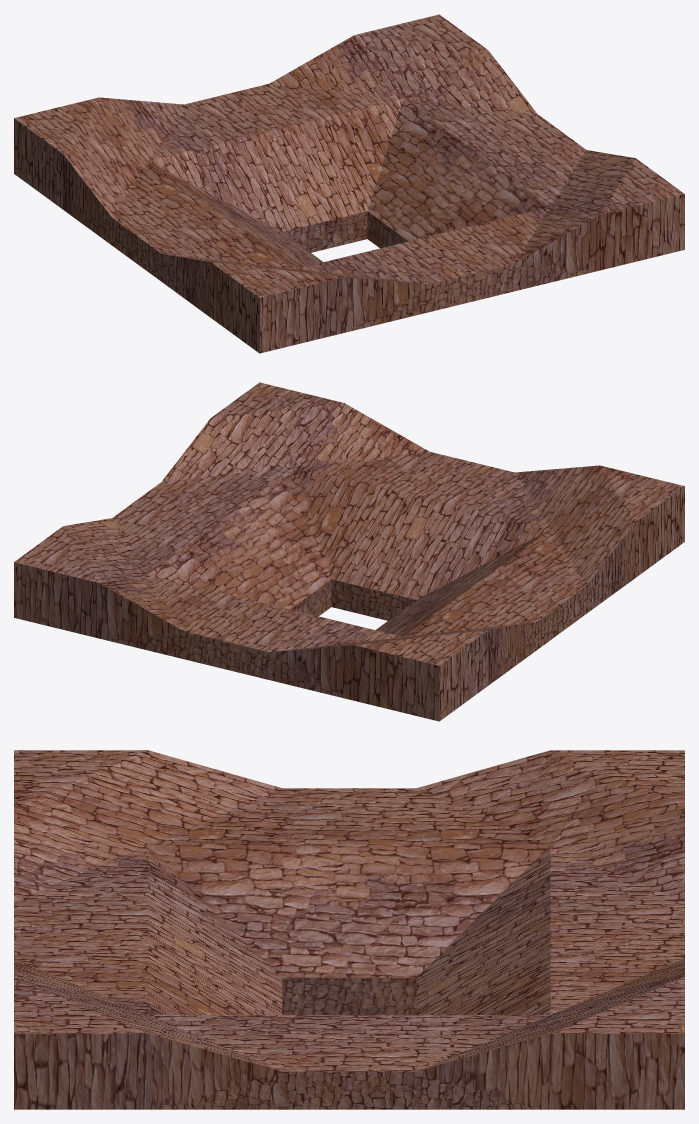
The model's file is hole.obj.
3 views of the same model, one above another, from view 1: azimuth 30°, elevation 25°; view 2: azimuth 150°, elevation 25°; view 3: azimuth 270°, elevation 25° (orthographic). The views are drawn at different scales.
Visible parts, largest first — view 1: Cube_Cube_Material_rock009r.jpg; view 2: Cube_Cube_Material_rock009r.jpg; view 3: Cube_Cube_Material_rock009r.jpg.
Boxes of the visible parts, <box> form: Cube_Cube_Material_rock009r.jpg: <box>14,14,684,353</box>; Cube_Cube_Material_rock009r.jpg: <box>14,382,684,721</box>; Cube_Cube_Material_rock009r.jpg: <box>14,750,684,1109</box>.
Size of the model in its own units: 32 by 8 by 32.
Materials: 1 (1 with a texture image).
